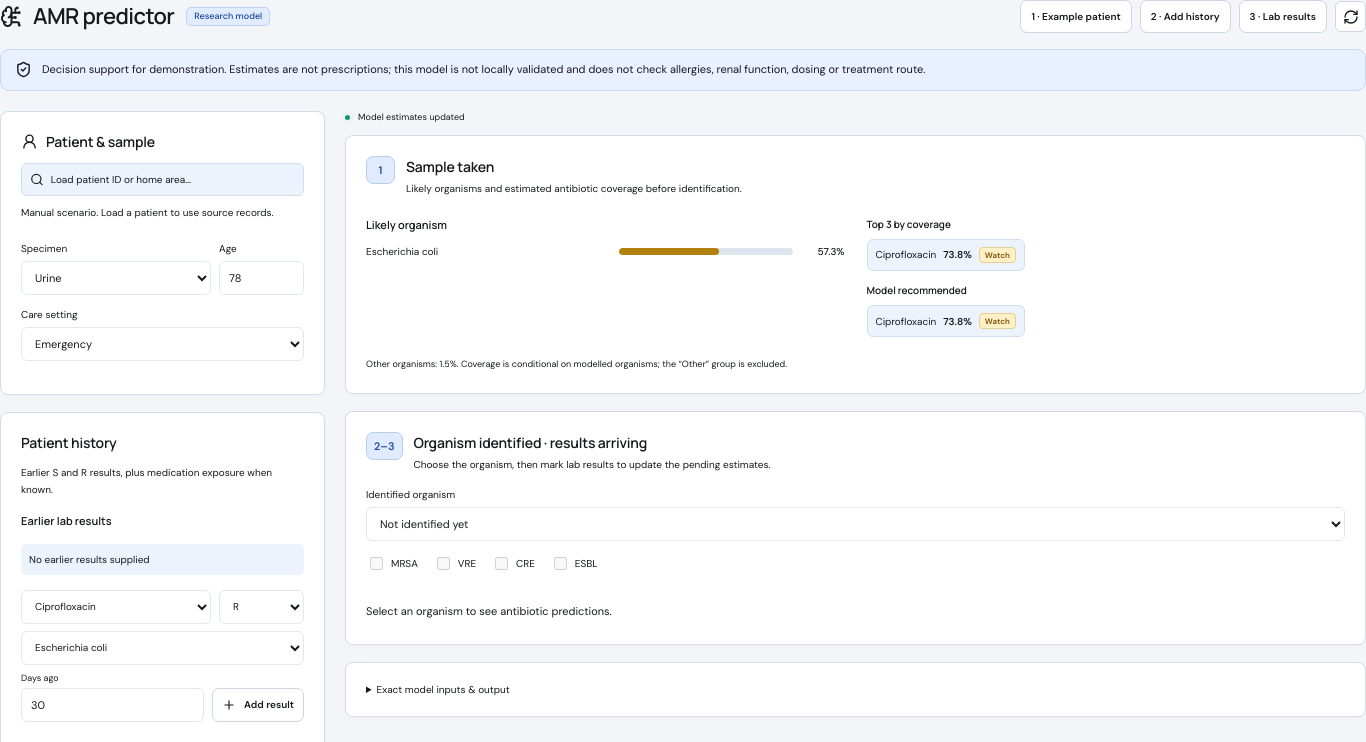
Scenario: AMR predictor page › loads source patient data and keeps missing prescription history unknown
expect the text "57.3%" is shown: met, box [818,245,844,258]
In the field named "Find patient for predictor": (173,179) [51,173,295,186], type "PTEST"
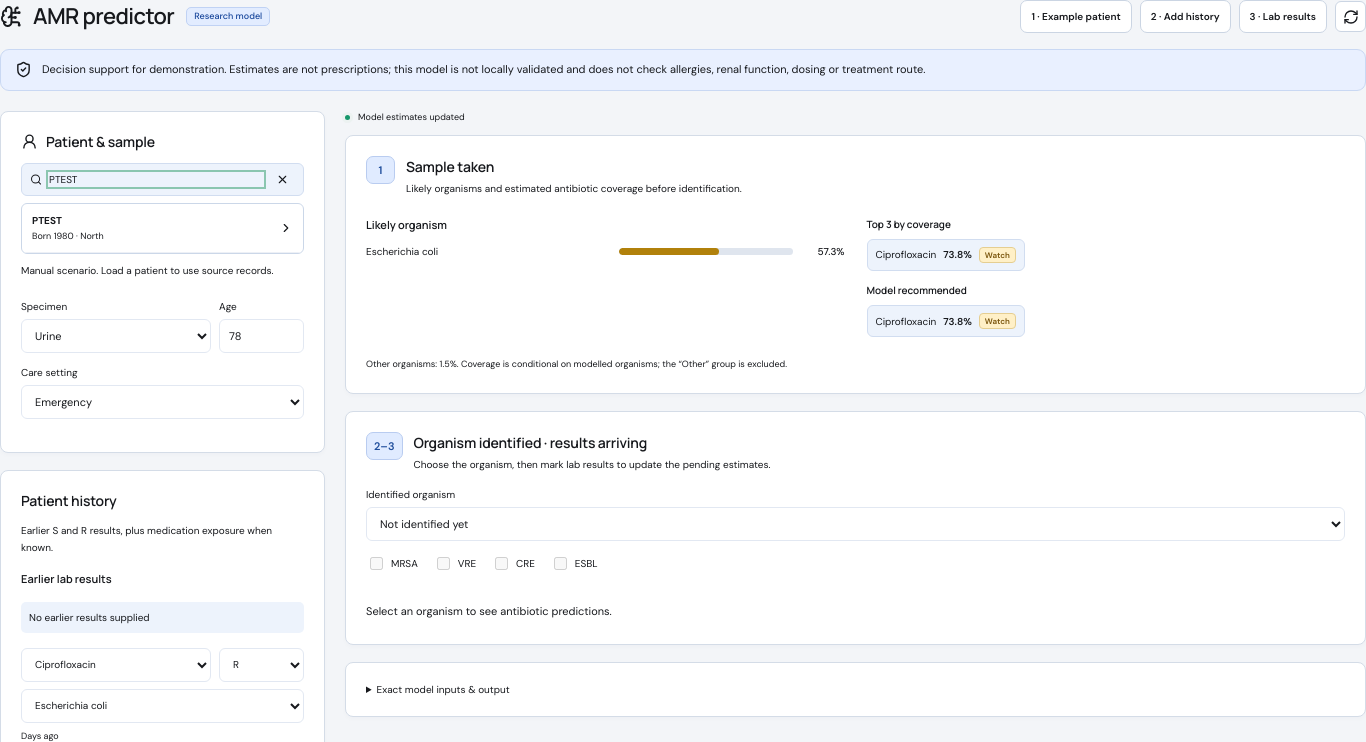
Click the button with aria-label "Load patient PTEST": (47,220) [22,204,303,253]
(page scrolled)
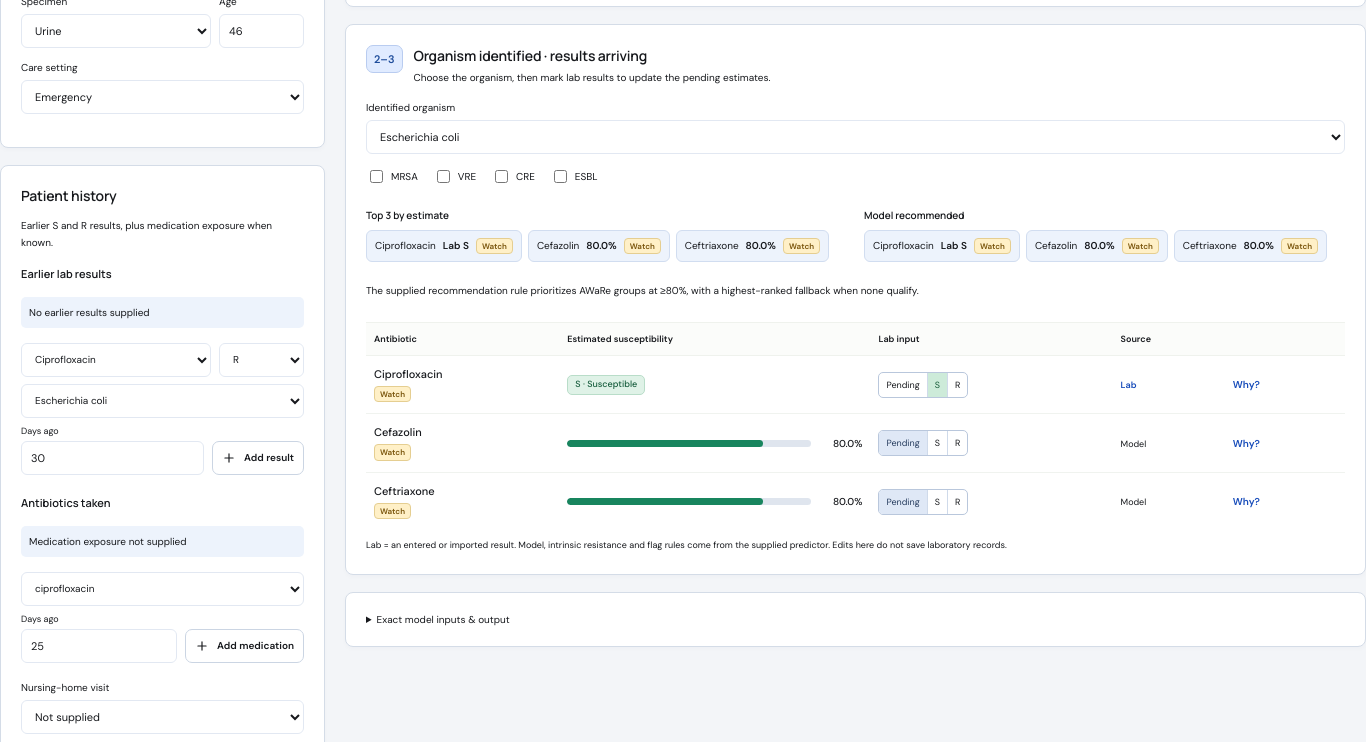
expect the dropdown named "Nursing-home history" shows "Not supplied": met, box [21,700,304,734]
expect the number field named "Predictor age" holds "46": met, box [219,14,304,48]
expect the text "S · Susceptible" is shown: met, box [567,375,645,395]
